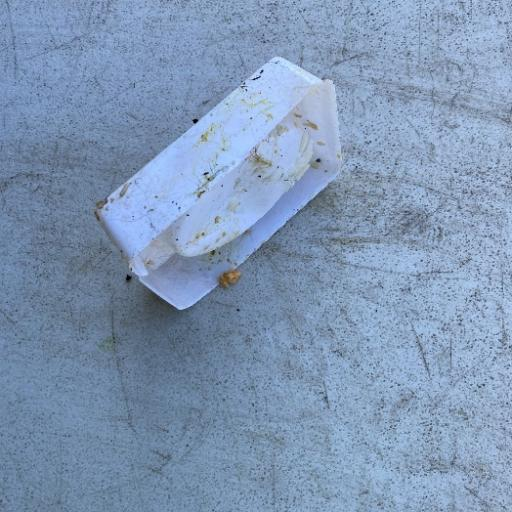Plastic: (92, 54, 344, 312)
